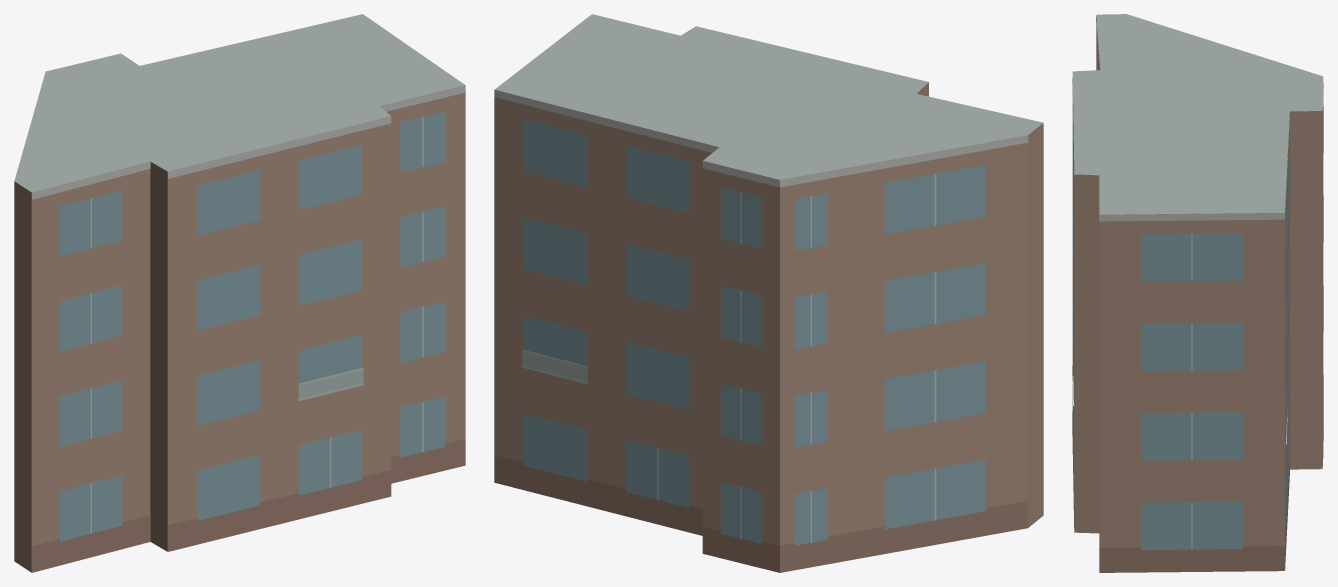
The model's file is survey-upis-32633270.glb.
3 renders of one model, left to right at view 1: azimuth 30°, elevation 25°; view 2: azimuth 150°, elevation 25°; view 3: azimuth 270°, elevation 25°, orthographic. The views are drawn at different scales.
Parts seen in each view (by area): view 1: survey-upis-32633270.tmp; view 2: survey-upis-32633270.tmp; view 3: survey-upis-32633270.tmp.
Part boxes in pixels (<box>): survey-upis-32633270.tmp: <box>14,14,465,572</box>; survey-upis-32633270.tmp: <box>494,14,1043,572</box>; survey-upis-32633270.tmp: <box>1072,14,1323,572</box>.
Bounding box in the file's own units: 15.39 × 12.8 × 8.14.
